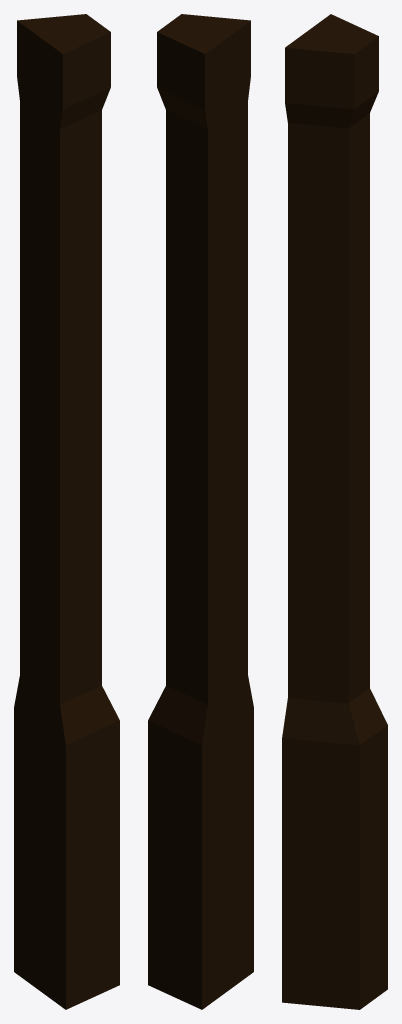
File: Pillar 4th Floor.obj
3 renders of one model, left to right at view 1: azimuth 30°, elevation 25°; view 2: azimuth 150°, elevation 25°; view 3: azimuth 330°, elevation 25°, orthographic.
Visible parts, largest first — view 1: Pillar_4th_Floor_01; view 2: Pillar_4th_Floor_01; view 3: Pillar_4th_Floor_01.
Boxes of the visible parts, x1,y1,x2,y2 form: Pillar_4th_Floor_01: (14, 14, 119, 1009); Pillar_4th_Floor_01: (148, 14, 253, 1009); Pillar_4th_Floor_01: (282, 14, 387, 1009).
Size of the model in its own units: 5773 by 79686 by 7853.
